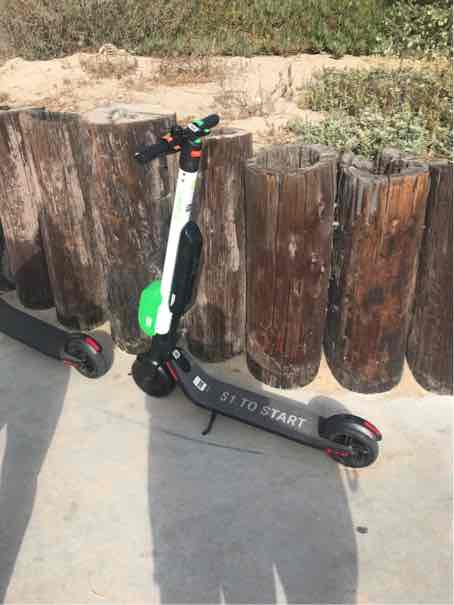scooter: (119, 103, 397, 473)
